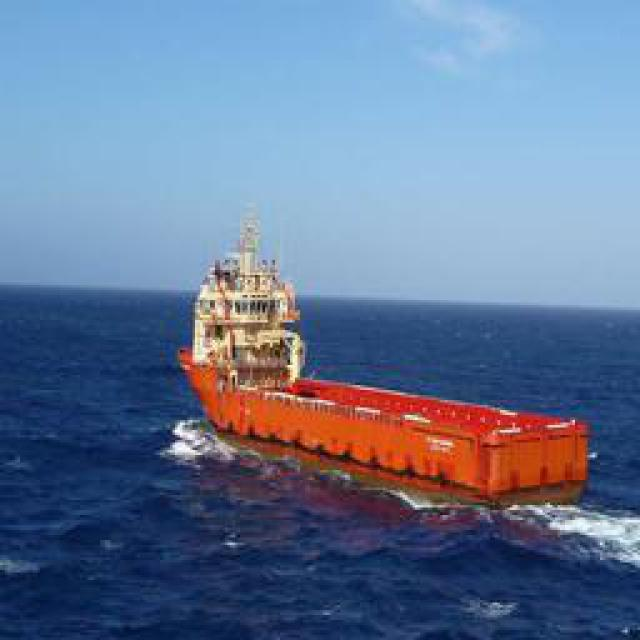Ship: (181, 225, 604, 528)
